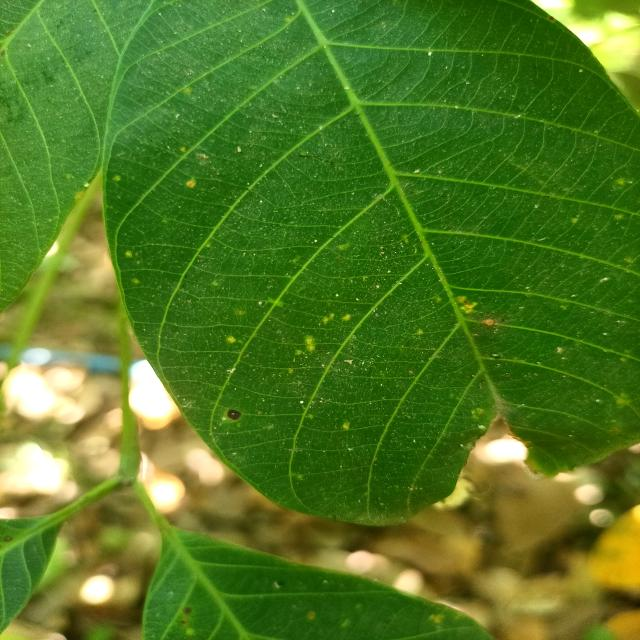Colletotrichum: (227, 409, 241, 420)
